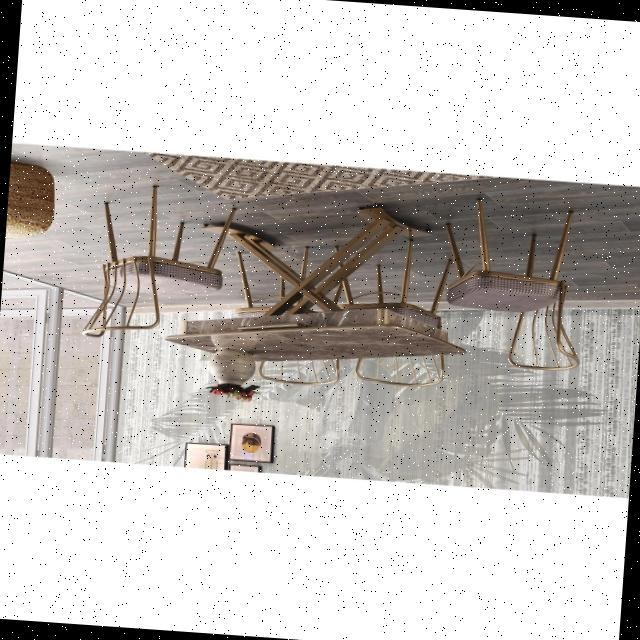Table: (162, 186, 479, 397)
